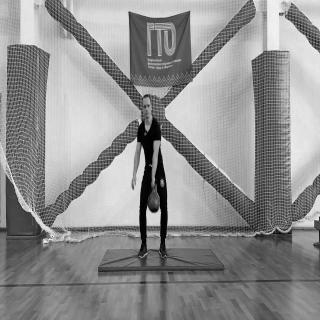kettlebell: (149, 182, 161, 214)
